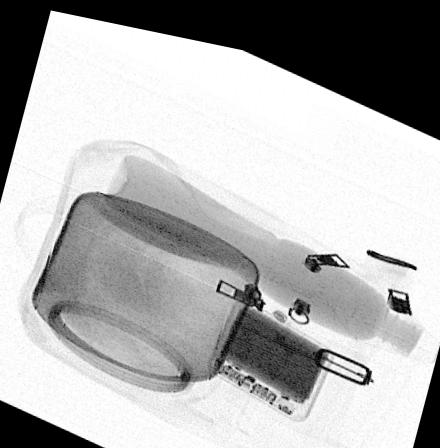Powerbank: (205, 287, 335, 407)
